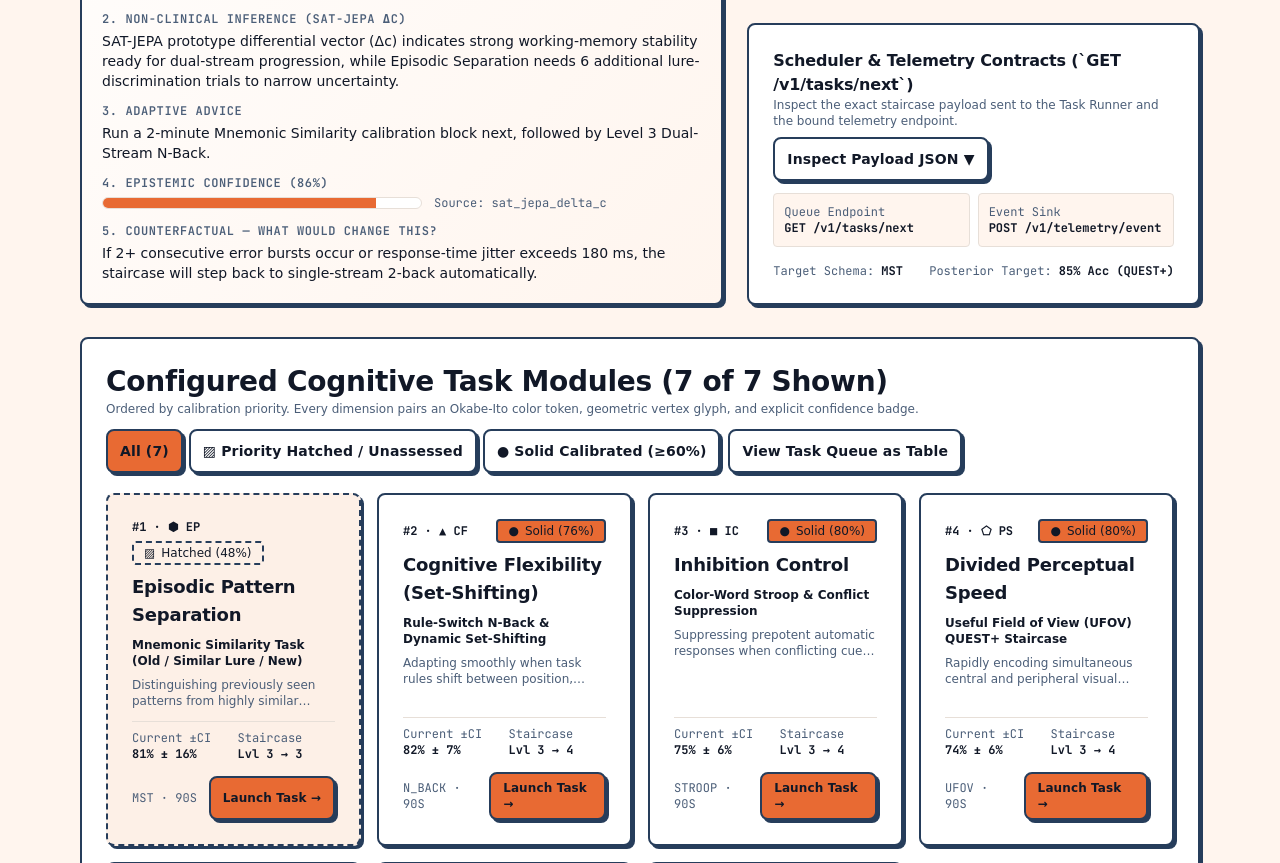
Test: Wave 1 & Wave 2 Pages & Design System Unit Suite › renders Page 03 Assessment Hub (/assessment) and supports session modes, table toggle, and /v1/tasks/next payload inspector
The width and height of the screenshot is (1280, 863).
(page scrolled)
Step 1. Click the button "View Task Queue as Table" → (845, 451), box [728,429,962,473]
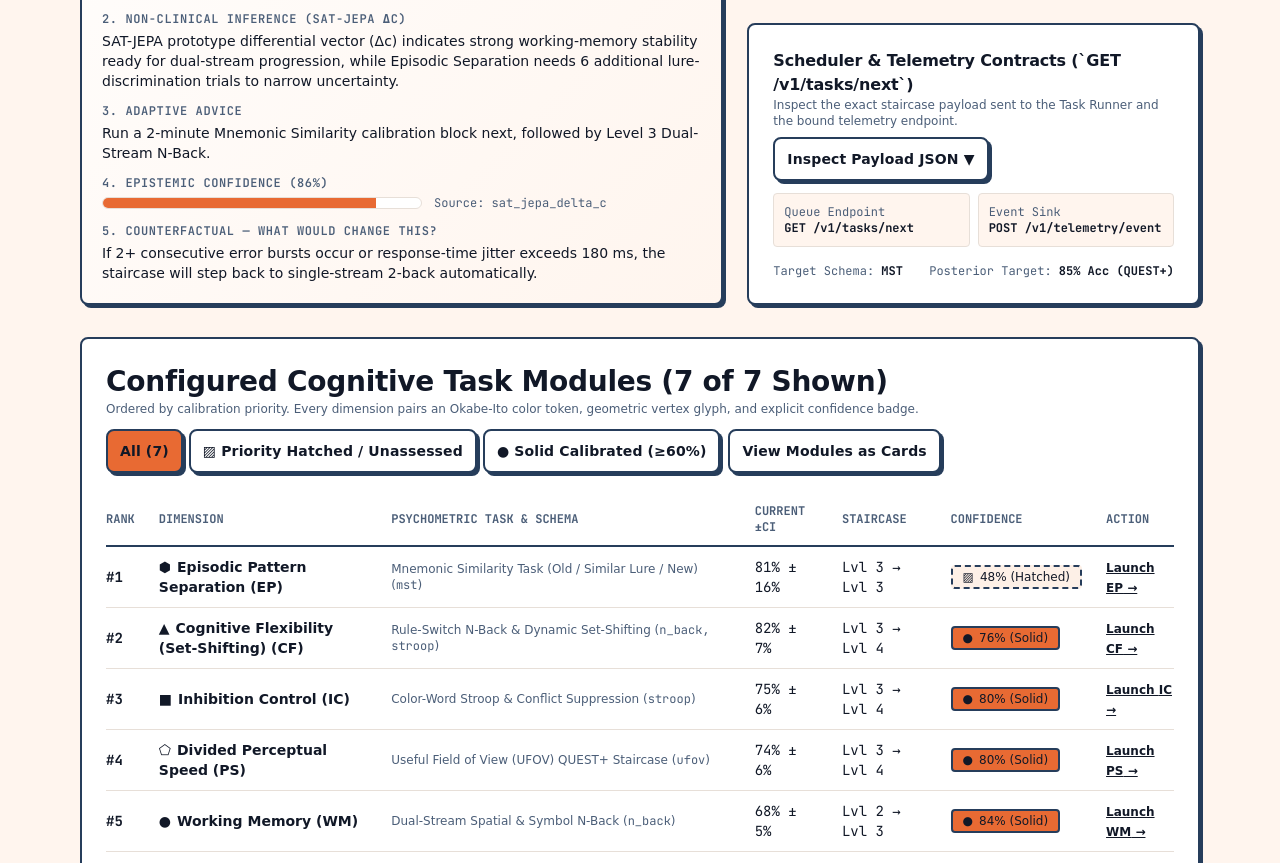
Step 2. Click the button "Inspect Payload JSON ▼" → (881, 159), box [773,137,989,181]
(page scrolled)
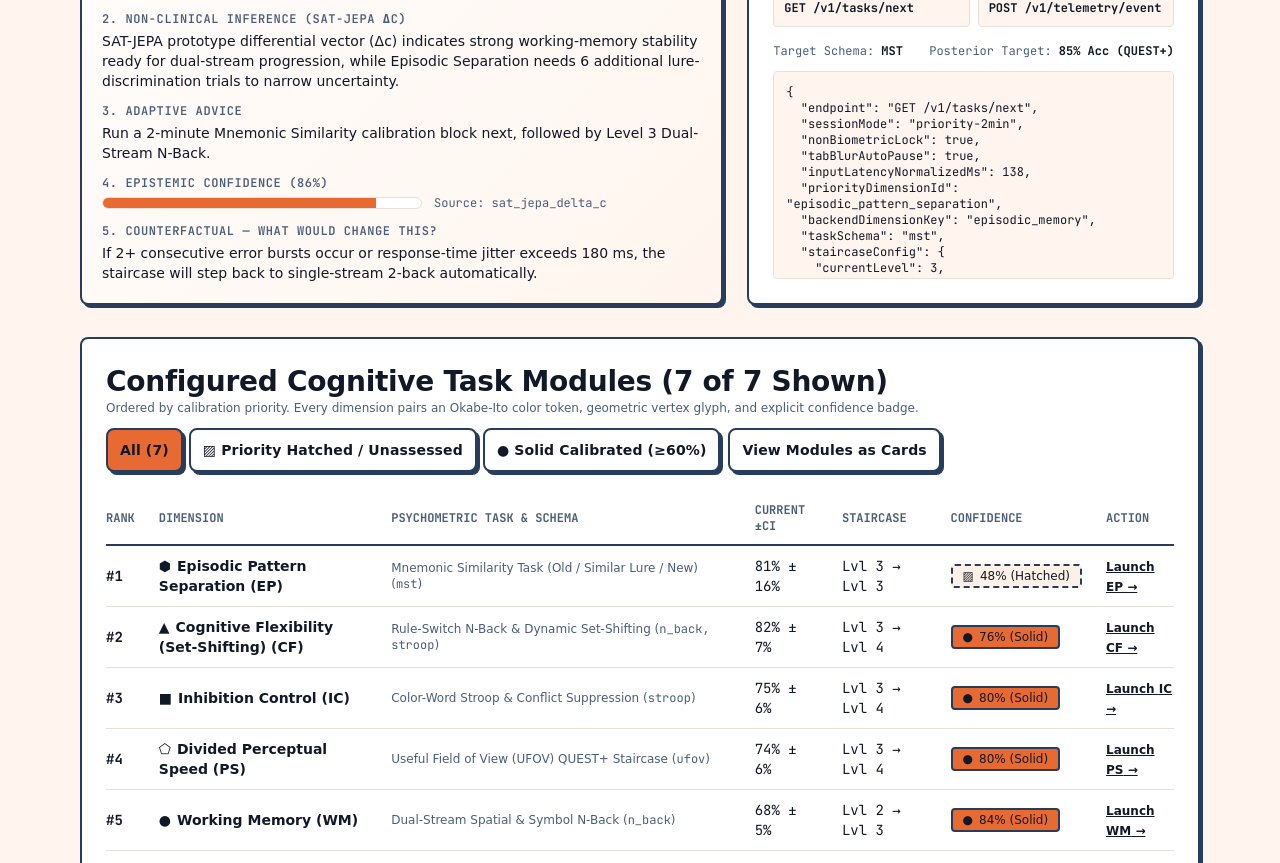
Expected: the text "low_confidence_hatched_band_narrowing" is shown, [786,84,1096,279]
